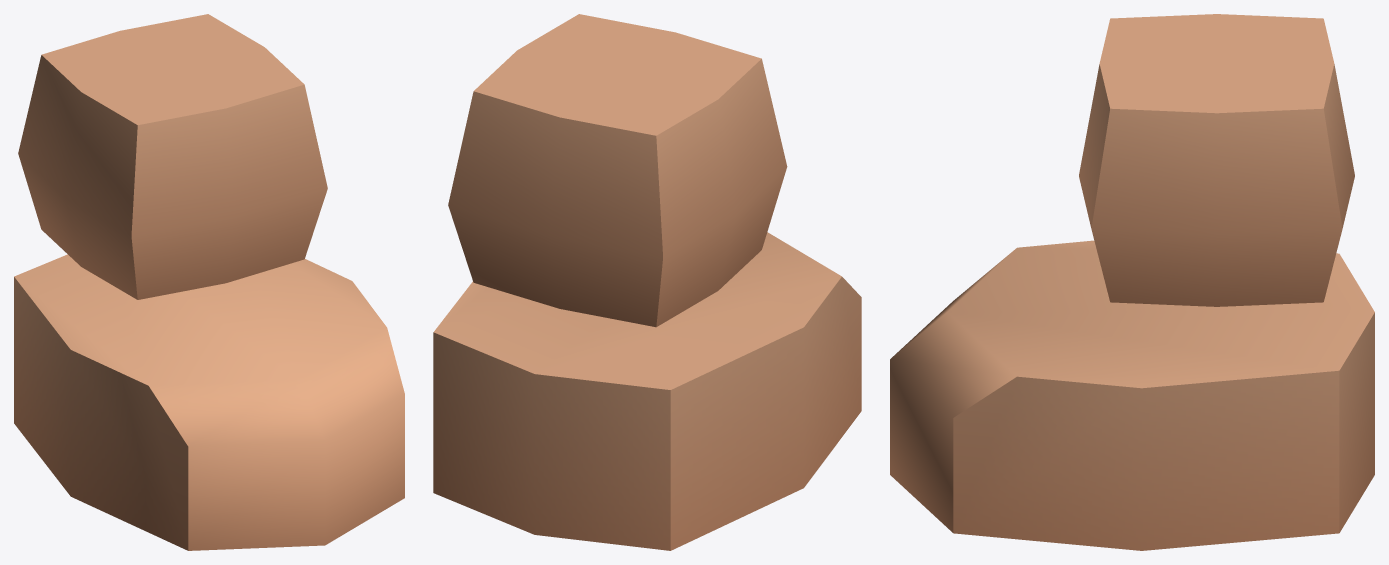
The model's file is leg-left.002_lev2.glb.
The picture shows the model from 3 angles, left to right: view 1: azimuth 30°, elevation 25°; view 2: azimuth 150°, elevation 25°; view 3: azimuth 270°, elevation 25°; orthographic projection. The views are drawn at different scales.
Parts seen in each view (by area): view 1: leg-left.002_lev2; view 2: leg-left.002_lev2; view 3: leg-left.002_lev2.
Part boxes in pixels (x1=…): leg-left.002_lev2: x1=14, y1=14, x2=404, y2=550; leg-left.002_lev2: x1=433, y1=14, x2=861, y2=550; leg-left.002_lev2: x1=890, y1=14, x2=1374, y2=550.
Size of the model in its own units: 0.1384 by 0.1733 by 0.1863.
1 material, 1 textured.
